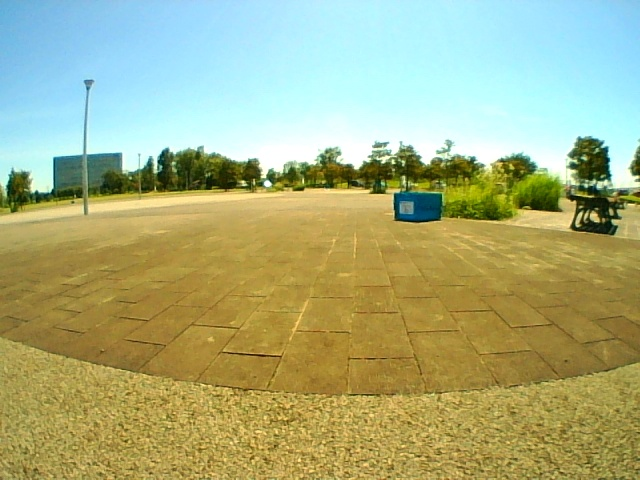blue_box: (394, 194, 439, 221)
tag: (399, 202, 413, 213)
